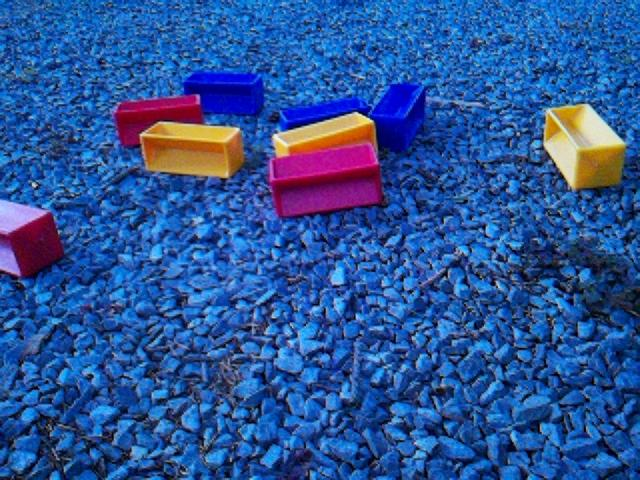blue: (369, 81, 426, 153), (183, 70, 265, 116), (278, 96, 371, 132)
red: (268, 142, 384, 219), (1, 195, 65, 279), (113, 93, 205, 148)
yellow: (543, 103, 627, 191), (139, 120, 245, 180), (272, 111, 378, 158)
